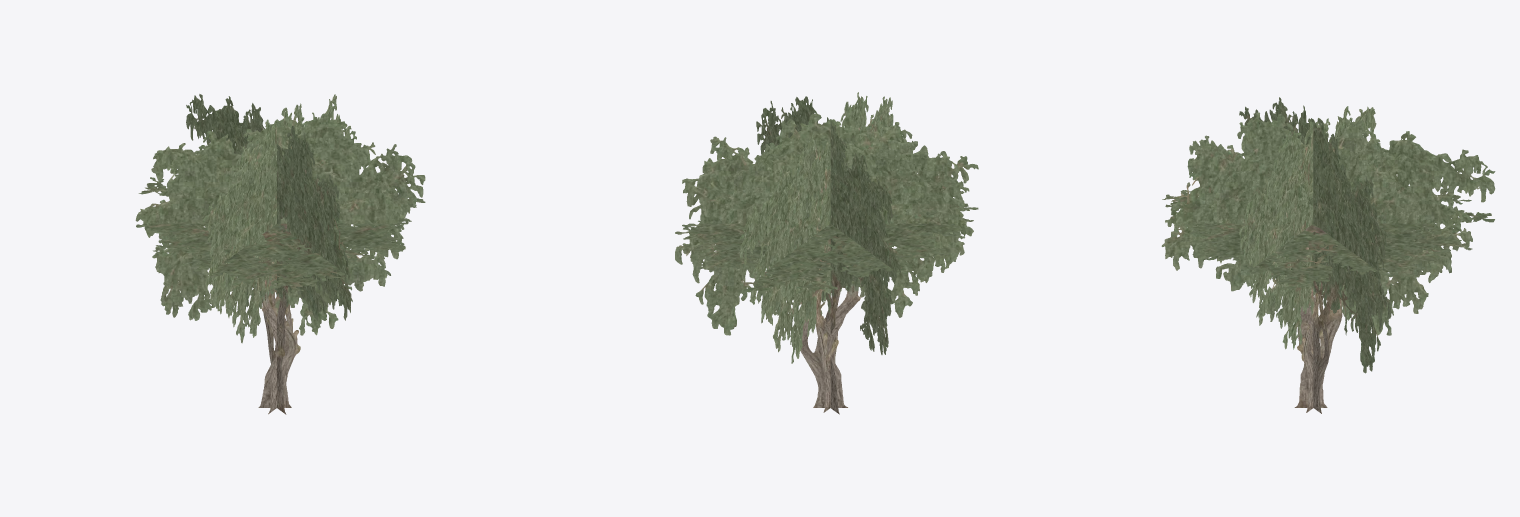
The model's file is plant_ghaf_far.glb.
3 views of the same model, side by side, from view 1: azimuth 30°, elevation 25°; view 2: azimuth 150°, elevation 25°; view 3: azimuth 270°, elevation 25° (orthographic).
Visible parts, largest first — view 1: leaf_ghaf_far; view 2: leaf_ghaf_far; view 3: leaf_ghaf_far.
Boxes of the visible parts, box(x1,y1,x2,y2) form: leaf_ghaf_far: box(135, 94, 425, 414); leaf_ghaf_far: box(675, 92, 978, 414); leaf_ghaf_far: box(1161, 97, 1495, 413).
Bounding box in the file's own units: 8.32 × 8.32 × 8.32.
1 material, 1 textured.
